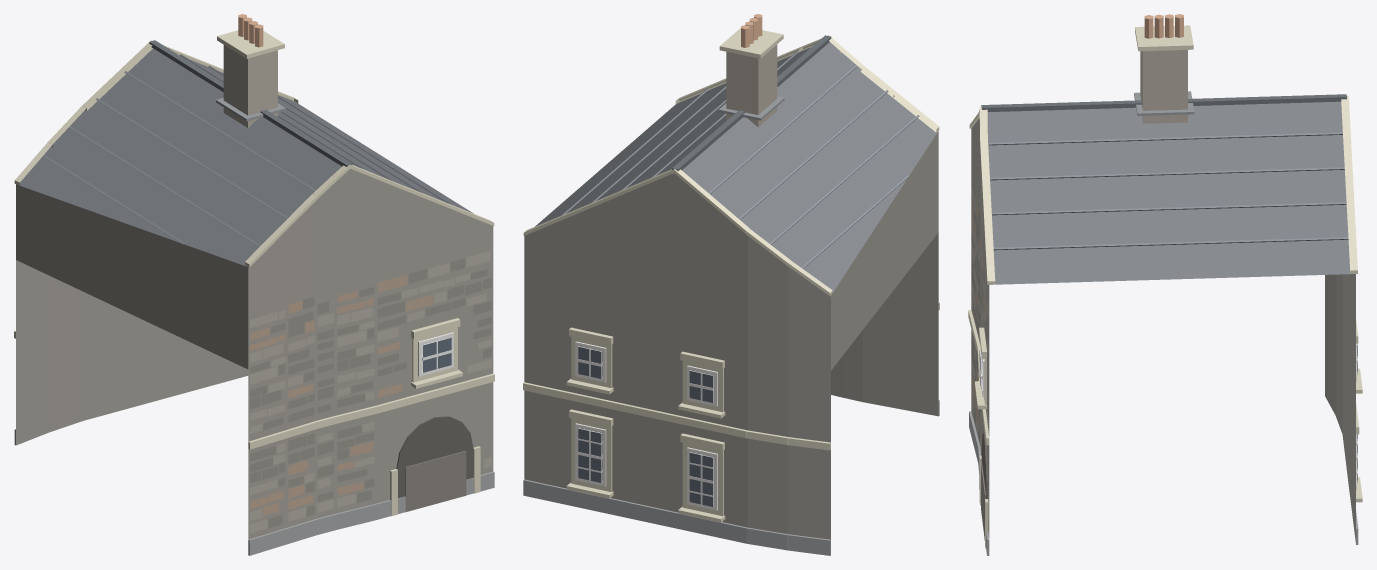
3 views of the same model, side by side, from view 1: azimuth 30°, elevation 25°; view 2: azimuth 150°, elevation 25°; view 3: azimuth 270°, elevation 25° (orthographic). The views are drawn at different scales.
Visible parts, largest first — view 1: rubble, slate, rubble_dk, dress_buff, rubble_lt, rubble_rust, slate_lt, chim_stone, plinth, pend_dark, pend_in, slate_dk (+3 smaller); view 2: rubble, slate, dress_buff, plinth, slate_lt, frame, chim_stone, slate_dk, window_glass_002, window_glass_004, window_glass_003, window_glass_005 (+1 smaller); view 3: slate, rubble, dress_buff, slate_lt, chim_stone, slate_dk, rubble_dk, pot, rubble_lt, lead, plinth.
Boxes of the visible parts, box(x1,y1,x2,y2) form: rubble: box(16, 168, 493, 539); slate: box(20, 48, 473, 266); rubble_dk: box(250, 258, 491, 528); dress_buff: box(14, 30, 494, 516); rubble_lt: box(250, 251, 491, 533); rubble_rust: box(250, 275, 432, 516); slate_lt: box(42, 54, 451, 246); chim_stone: box(223, 45, 277, 127); plinth: box(14, 429, 494, 555); pend_dark: box(396, 416, 473, 498); pend_in: box(405, 450, 466, 511); slate_dk: box(149, 40, 352, 166); rubble: box(524, 131, 938, 539); slate: box(535, 42, 937, 292); dress_buff: box(523, 28, 939, 522); plinth: box(523, 400, 939, 555); slate_lt: box(561, 50, 919, 268); frame: box(575, 341, 717, 510); chim_stone: box(726, 44, 777, 127); slate_dk: box(672, 35, 831, 170); window_glass_002: box(689, 452, 713, 506); window_glass_004: box(578, 428, 601, 482); window_glass_003: box(689, 370, 713, 402); window_glass_005: box(578, 346, 601, 378); slate: box(987, 101, 1350, 284); rubble: box(971, 118, 1355, 542); dress_buff: box(968, 25, 1362, 548); slate_lt: box(988, 132, 1348, 250); chim_stone: box(1140, 50, 1187, 123); slate_dk: box(981, 94, 1346, 111); rubble_dk: box(971, 210, 988, 440); pot: box(1144, 14, 1183, 38); rubble_lt: box(971, 186, 988, 530); lead: box(1134, 91, 1194, 115); plinth: box(969, 411, 1358, 555).
Bounding box in the file's own units: 9.63 × 12.88 × 10.02.
